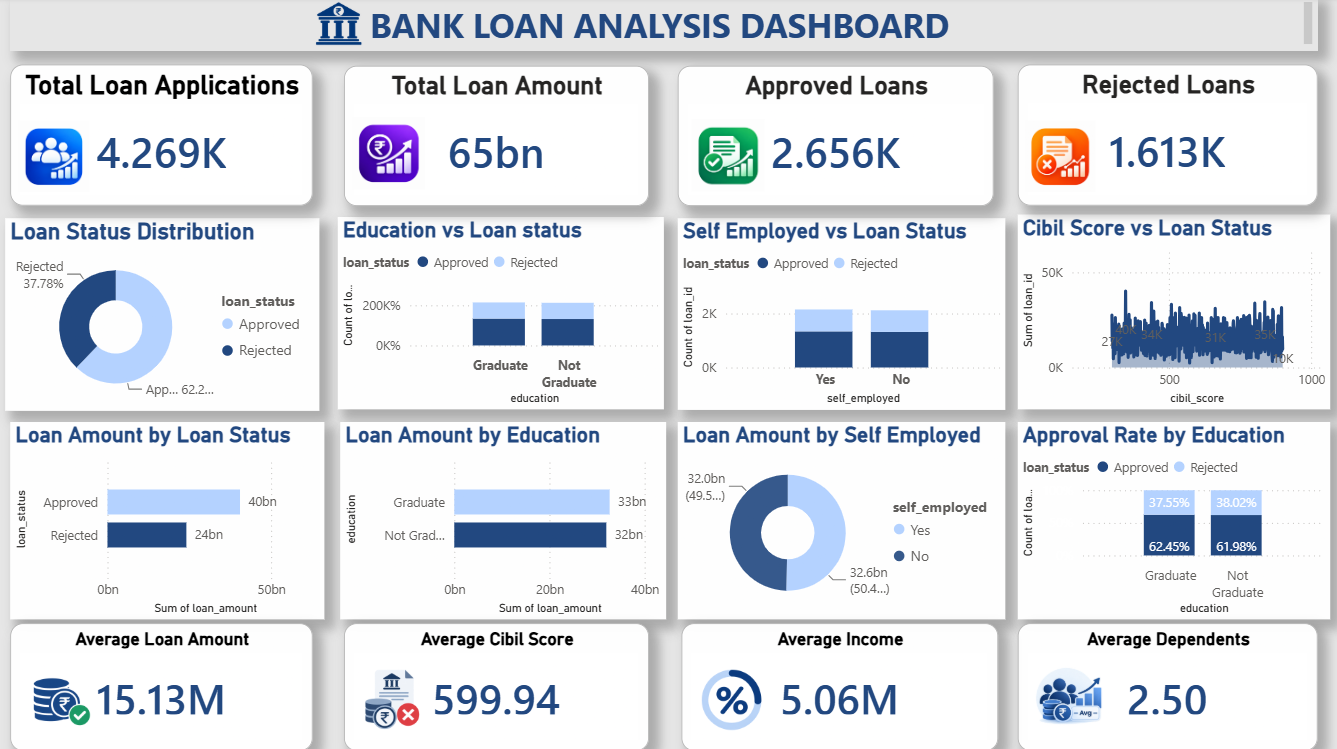

What the dashboard file says about the page in this screenshot:
{"tool":"powerbi","page":{"name":"Page 1","canvas":[1280,720],"ordinal":0},"visuals":[{"type":"cardVisual","title":"Total Loan Applications","fields":{"Data":["CountNonNull(cleaned_loan_dataset.loan_id)"]},"box":[15.5,64.3,288.1,134.5],"z":0,"group":"g1"},{"type":"cardVisual","title":"Total Loan Amount","fields":{"Data":["Sum(cleaned_loan_dataset.loan_amount)"]},"box":[333.3,65.5,290.5,133.3],"z":0,"group":"g4"},{"type":"cardVisual","title":"Rejected Loans ","fields":{"Data":["CountNonNull(cleaned_loan_dataset.loan_id)"]},"box":[975,64.3,285.7,134.5],"z":1000,"group":"g2"},{"type":"cardVisual","title":"Approved Loans ","fields":{"Data":["CountNonNull(cleaned_loan_dataset.loan_id)"]},"box":[651.2,65.5,301.2,133.3],"z":2000,"group":"g3"},{"type":"image","box":[341.6,111.9,69,73.8],"z":3000,"group":"g4"},{"type":"donutChart","title":"Loan Status Distribution ","fields":{"Category":["cleaned_loan_dataset.loan_status"],"Y":["CountNonNull(cleaned_loan_dataset.loan_id)"]},"box":[10.7,210.7,298.8,183.3],"z":4000},{"type":"columnChart","title":" Education vs Loan status","fields":{"Category":["cleaned_loan_dataset.education"],"Y":["CountNonNull(cleaned_loan_dataset.loan_id)"],"Series":["cleaned_loan_dataset.loan_status"]},"box":[327.4,209.5,310.7,183.3],"z":5000},{"type":"columnChart","title":"Self Employed vs Loan Status","fields":{"Category":["cleaned_loan_dataset.self_employed"],"Y":["CountNonNull(cleaned_loan_dataset.loan_id)"],"Series":["cleaned_loan_dataset.loan_status"]},"box":[651.2,210.7,311.9,182.1],"z":6000},{"type":"stackedAreaChart","title":" Cibil Score vs Loan Status","fields":{"Category":["cleaned_loan_dataset.cibil_score"],"Y":["Sum(cleaned_loan_dataset.loan_id)"]},"box":[975,207.1,297.6,185.7],"z":7000},{"type":"barChart","title":" Loan Amount by Loan Status","fields":{"Category":["cleaned_loan_dataset.loan_status"],"Y":["Sum(cleaned_loan_dataset.loan_amount)"]},"box":[15.5,404.8,298.8,188.1],"z":8000},{"type":"clusteredBarChart","title":"Loan Amount by Education","fields":{"Y":["Sum(cleaned_loan_dataset.loan_amount)"],"Category":["cleaned_loan_dataset.education"]},"box":[329.8,404.8,310.7,188.1],"z":9000},{"type":"donutChart","title":"Loan Amount by Self Employed","fields":{"Category":["cleaned_loan_dataset.self_employed"],"Y":["Sum(cleaned_loan_dataset.loan_amount)"]},"box":[651.2,404.8,311.9,188.1],"z":10000},{"type":"hundredPercentStackedColumnChart","title":"Approval Rate by Education ","fields":{"Category":["cleaned_loan_dataset.education"],"Y":["CountNonNull(cleaned_loan_dataset.loan_id)"],"Series":["cleaned_loan_dataset.loan_status"]},"box":[975,404.8,297.6,188.1],"z":11000},{"type":"textbox","box":[15.5,0,1245.2,51.2],"z":12000},{"type":"image","box":[213.1,0,229.8,51.2],"z":13000},{"type":"cardVisual","title":"Average Loan Amount ","fields":{"Data":["Avg(cleaned_loan_dataset.loan_amount)"]},"box":[15.5,596.8,288.3,121.3],"z":15000,"group":"g7"},{"type":"cardVisual","title":"Average Cibil Score","fields":{"Data":["Avg(cleaned_loan_dataset.cibil_score)"]},"box":[333.3,596.4,290.5,121.4],"z":16000,"group":"g6"},{"type":"cardVisual","title":"Average Income","fields":{"Data":["Avg(cleaned_loan_dataset.income_annum)"]},"box":[655.2,596.9,301.4,121.3],"z":17000,"group":"g8"},{"type":"cardVisual","title":"Average Dependents","fields":{"Data":["Avg(cleaned_loan_dataset.no_of_dependents)"]},"box":[975,596.8,285.8,121.3],"z":18000,"group":"g5"},{"type":"image","box":[975,628,95.3,80.5],"z":19000,"group":"g5"},{"type":"image","box":[638.1,116.7,122.6,69],"z":20000,"group":"g3"},{"type":"image","box":[15.5,117.9,83.3,67.9],"z":20000,"group":"g1"},{"type":"image","box":[913.1,117.9,204.8,67.9],"z":21000,"group":"g2"},{"type":"image","box":[0,620.1,123.9,100.3],"z":22000,"group":"g7"},{"type":"image","box":[319,616.6,123.8,103.6],"z":23000,"group":"g6"},{"type":"image","box":[637.2,621.9,132.1,97.3],"z":24000,"group":"g8"},{"type":"group","id":"g1","title":"Group 1","box":[15.5,64.3,288.1,134.5],"z":25000},{"type":"group","id":"g2","title":"Group 2","box":[913.1,64.3,347.6,134.5],"z":25001},{"type":"group","id":"g3","title":"Group 3","box":[638.1,65.5,314.3,133.3],"z":25002},{"type":"group","id":"g4","title":"Group 4","box":[333.3,65.5,290.5,133.3],"z":25003},{"type":"group","id":"g5","title":"Group 5","box":[975,596.8,285.8,121.3],"z":25004},{"type":"group","id":"g6","title":"Group 7","box":[319,596.4,304.8,123.8],"z":25006},{"type":"group","id":"g7","title":"Group 8","box":[0,596.8,303.8,123.7],"z":25007},{"type":"group","id":"g8","title":"Group 6","box":[637.2,596.9,319.3,122.3],"z":25008}]}

Visuals, with their boxes in screenshot pixels (x1, y1, x2, y2), scaled from the page's 1280x720 canvas onto the 1337x749 screenshot:
"Total Loan Applications" cardVisual: box(16, 67, 317, 207)
"Total Loan Amount" cardVisual: box(348, 68, 652, 207)
"Rejected Loans " cardVisual: box(1018, 67, 1317, 207)
"Approved Loans " cardVisual: box(680, 68, 995, 207)
image: box(357, 116, 429, 193)
"Loan Status Distribution " donutChart: box(11, 219, 323, 410)
" Education vs Loan status" columnChart: box(342, 218, 667, 409)
"Self Employed vs Loan Status" columnChart: box(680, 219, 1006, 409)
" Cibil Score vs Loan Status" stackedAreaChart: box(1018, 215, 1329, 409)
" Loan Amount by Loan Status" barChart: box(16, 421, 328, 617)
"Loan Amount by Education" clusteredBarChart: box(344, 421, 669, 617)
"Loan Amount by Self Employed" donutChart: box(680, 421, 1006, 617)
"Approval Rate by Education " hundredPercentStackedColumnChart: box(1018, 421, 1329, 617)
textbox: box(16, 0, 1317, 53)
image: box(223, 0, 463, 53)
"Average Loan Amount " cardVisual: box(16, 621, 317, 747)
"Average Cibil Score" cardVisual: box(348, 620, 652, 747)
"Average Income" cardVisual: box(684, 621, 999, 747)
"Average Dependents" cardVisual: box(1018, 621, 1317, 747)
image: box(1018, 653, 1118, 737)
image: box(667, 121, 795, 193)
image: box(16, 123, 103, 193)
image: box(954, 123, 1168, 193)
image: box(0, 645, 129, 748)
image: box(333, 641, 463, 748)
image: box(666, 647, 804, 748)
"Group 1" group: box(16, 67, 317, 207)
"Group 2" group: box(954, 67, 1317, 207)
"Group 3" group: box(667, 68, 995, 207)
"Group 4" group: box(348, 68, 652, 207)
"Group 5" group: box(1018, 621, 1317, 747)
"Group 7" group: box(333, 620, 652, 748)
"Group 8" group: box(0, 621, 317, 748)
"Group 6" group: box(666, 621, 999, 748)
